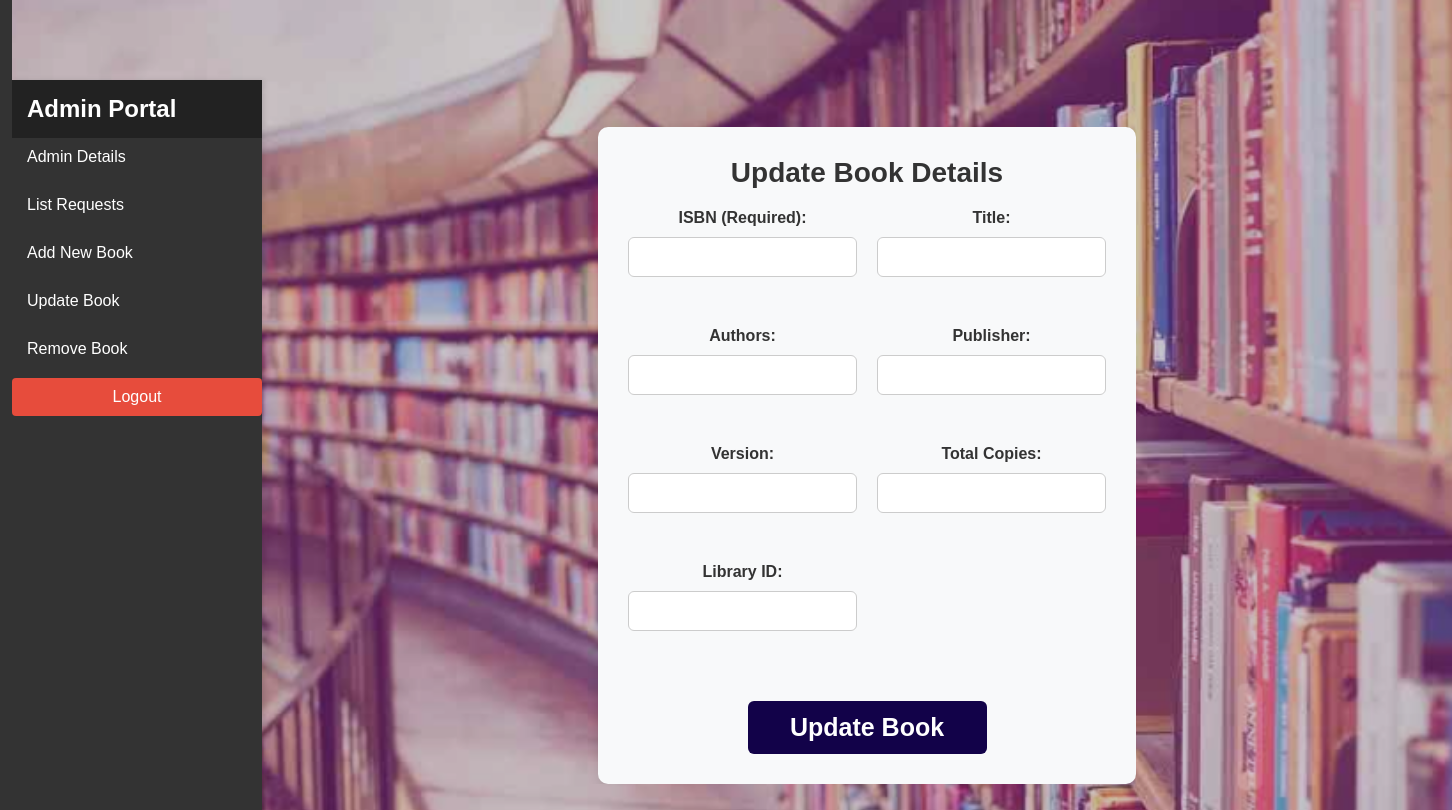
Test: AdminUpdateBook › submits form and displays success message on valid API response
Fill the form inputs
Type "1234567890" into the field labelled "ISBN (Required):" at (742, 256), box top-left (628, 236), bottom-right (857, 276)
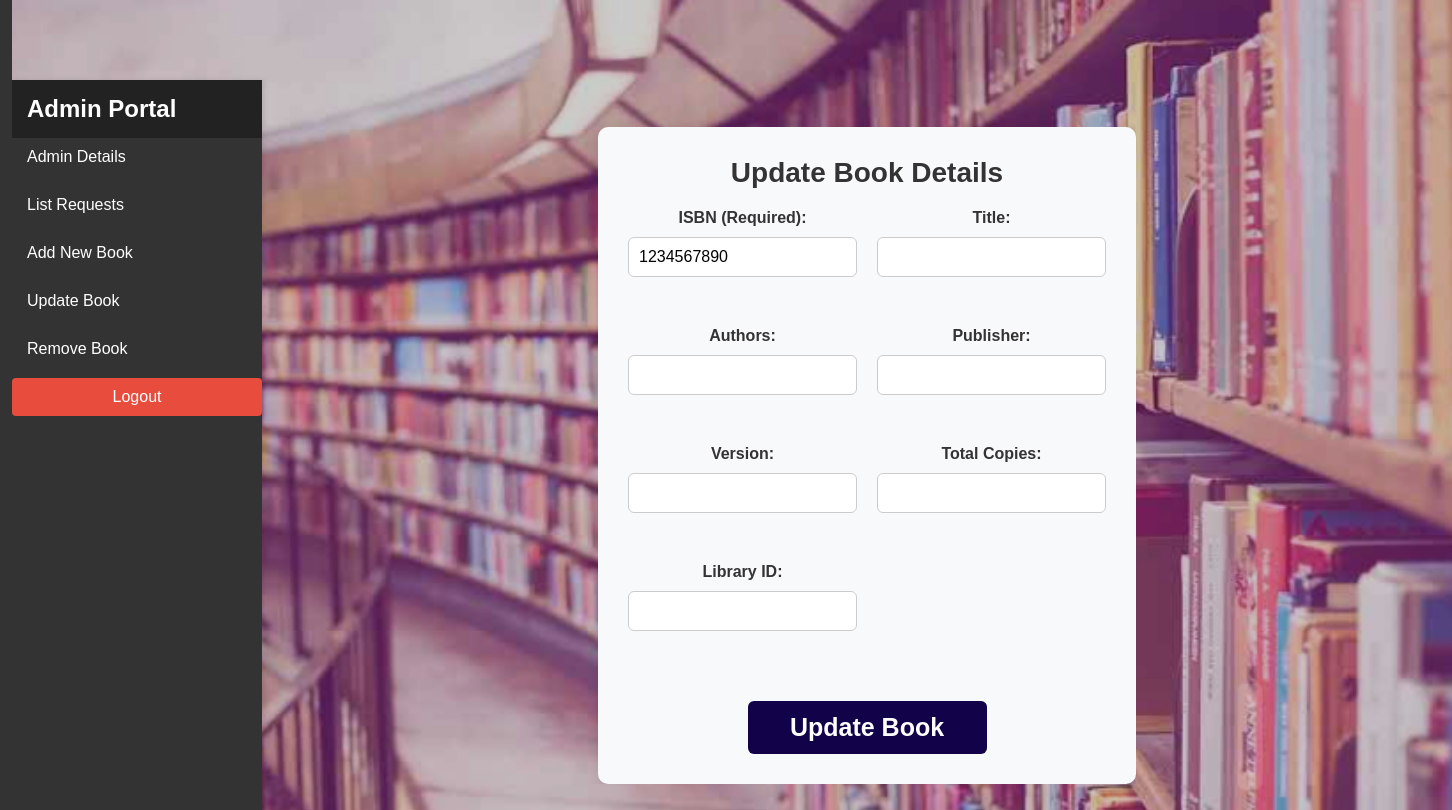
Type "Test Book" into the field labelled "Title:" at (992, 256), box top-left (877, 236), bottom-right (1106, 276)
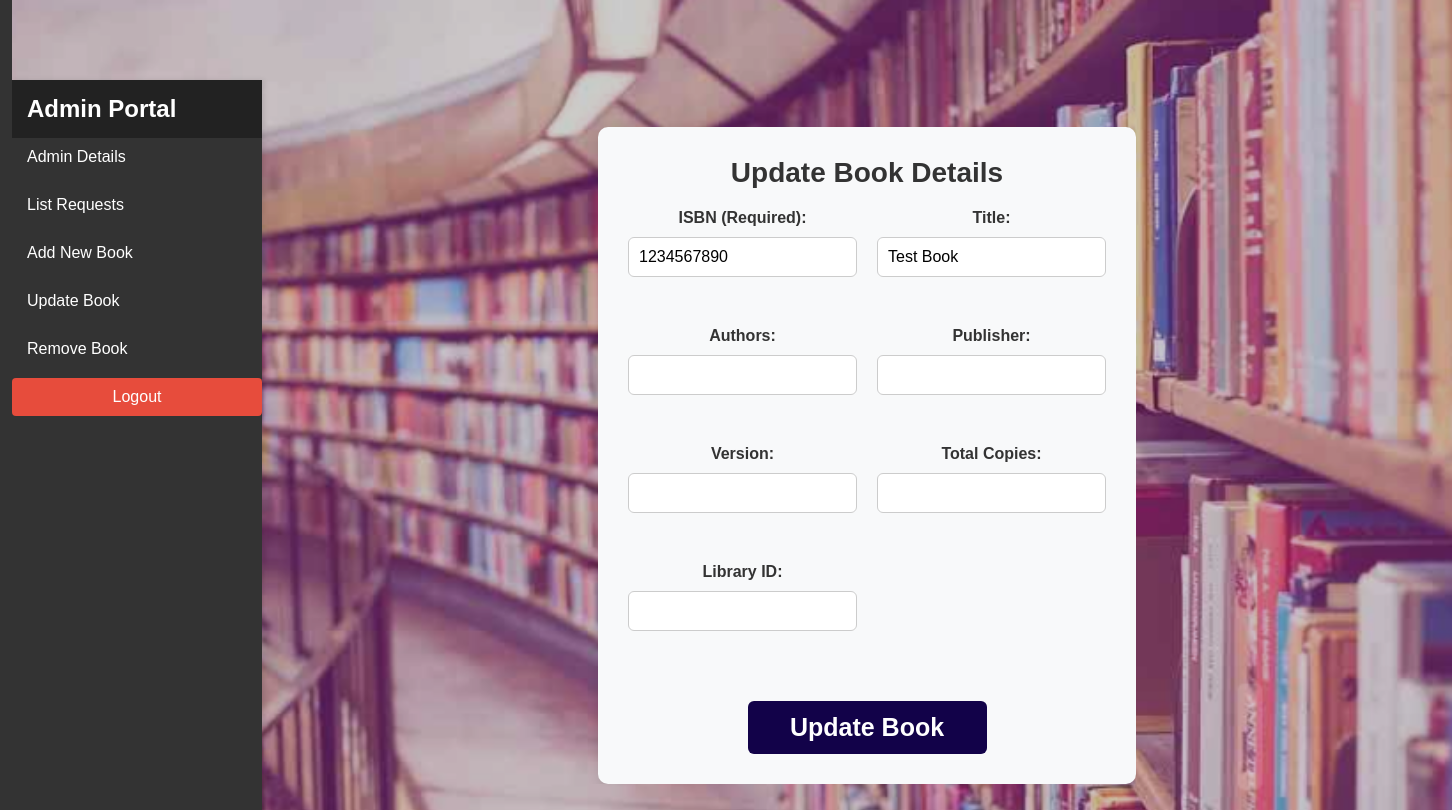
Type "John Doe" into the field labelled "Authors:" at (742, 374), box top-left (628, 354), bottom-right (857, 394)
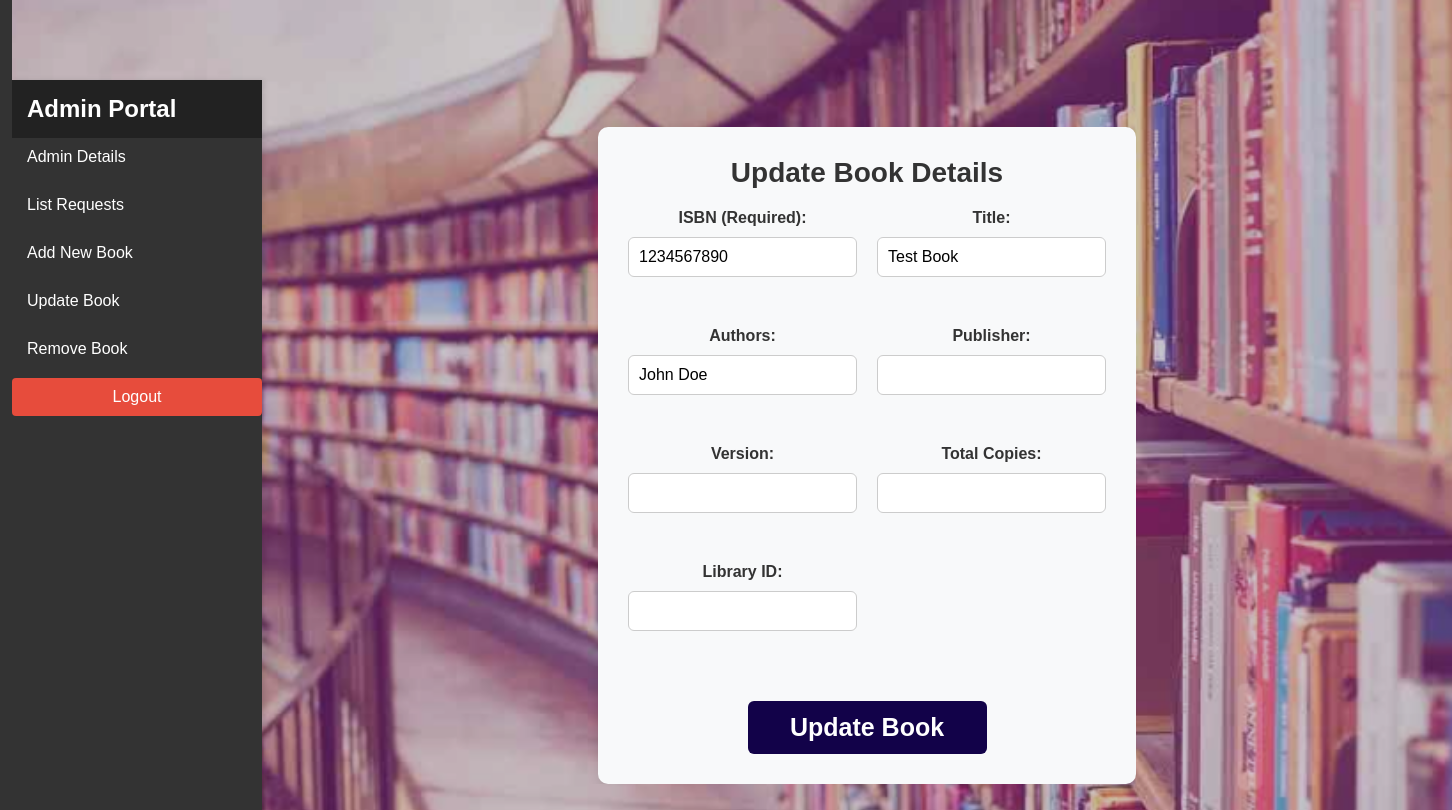
Submit the form
Click the button "Update Book" at (867, 727), box top-left (748, 700), bottom-right (986, 754)
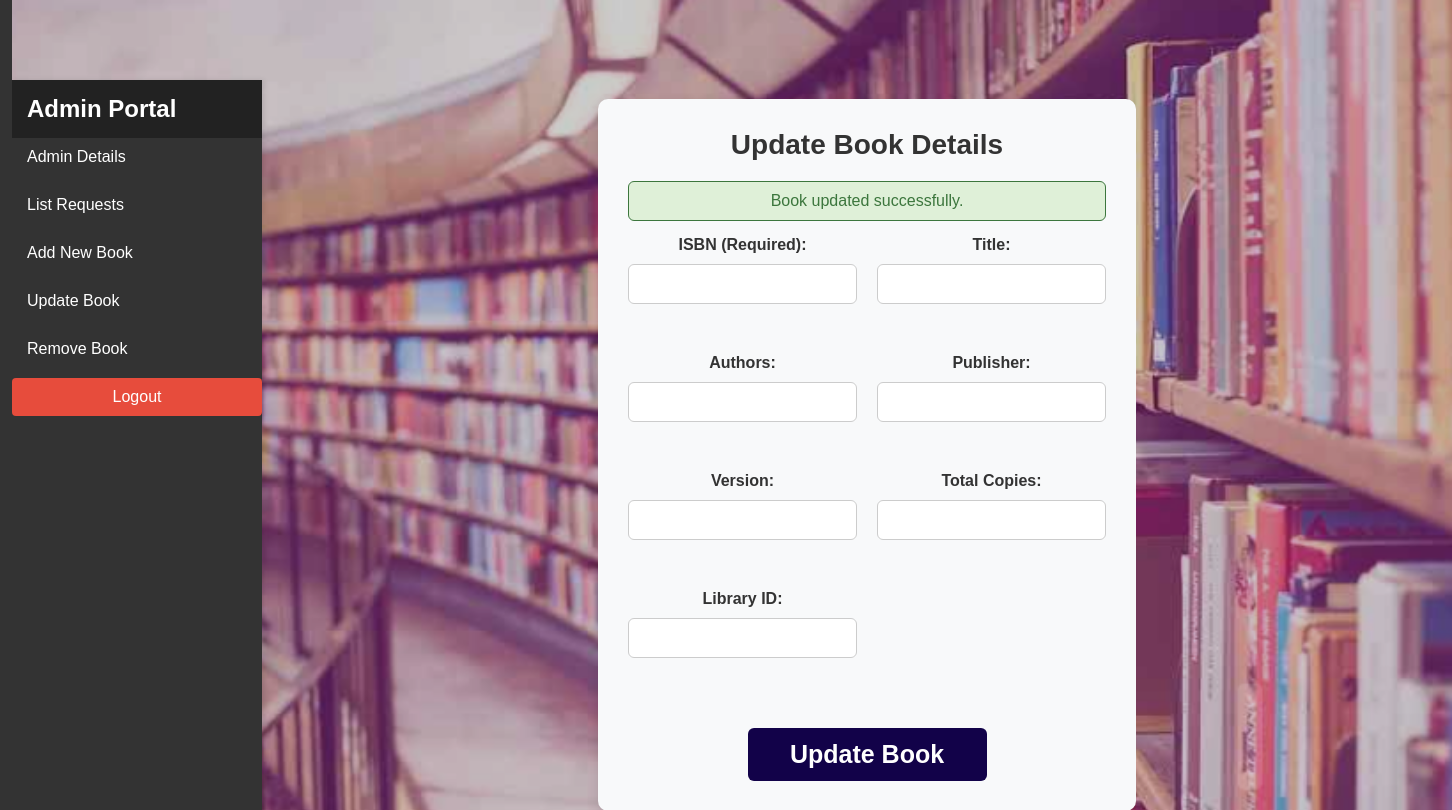
Result: the text "Book updated successfully." is shown at top-left (628, 181), bottom-right (1106, 221)
Result: the field labelled "ISBN (Required):" is empty at top-left (628, 264), bottom-right (857, 304)
Result: the field labelled "Title:" is empty at top-left (877, 264), bottom-right (1106, 304)
